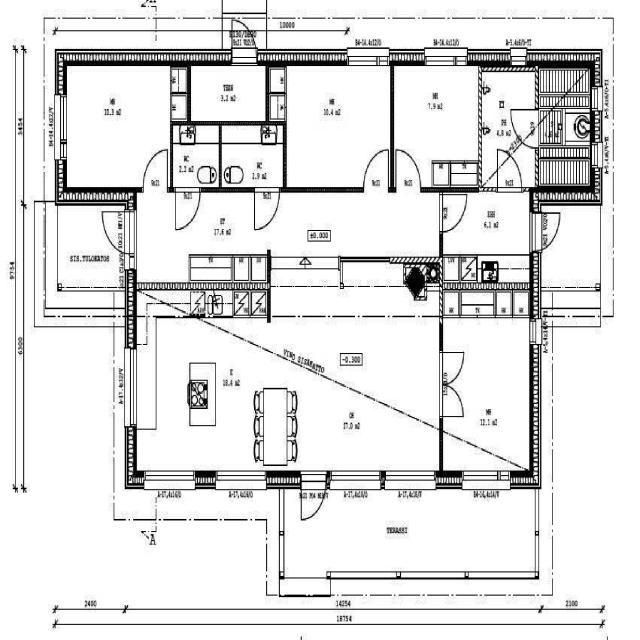door: (298, 470, 328, 524), (439, 189, 468, 236), (361, 145, 391, 190), (441, 344, 466, 398), (393, 145, 422, 191), (141, 145, 170, 190), (252, 187, 280, 232), (174, 186, 201, 232), (495, 149, 524, 190), (101, 205, 124, 255), (538, 208, 563, 253), (440, 381, 466, 419), (231, 20, 256, 58)
window: (122, 344, 140, 432), (212, 467, 270, 490), (382, 466, 437, 489), (459, 467, 511, 491), (330, 468, 382, 491), (142, 468, 195, 490), (54, 91, 70, 163), (281, 573, 331, 596), (424, 50, 468, 70), (436, 347, 447, 422), (125, 205, 138, 268), (346, 51, 384, 69)
zone: (60, 64, 177, 192), (275, 64, 391, 191), (444, 319, 532, 472), (392, 63, 480, 185), (479, 68, 538, 174), (188, 65, 268, 123), (221, 124, 285, 190), (538, 102, 595, 172), (171, 124, 222, 190), (259, 390, 295, 465), (459, 289, 494, 320), (340, 350, 366, 368)
